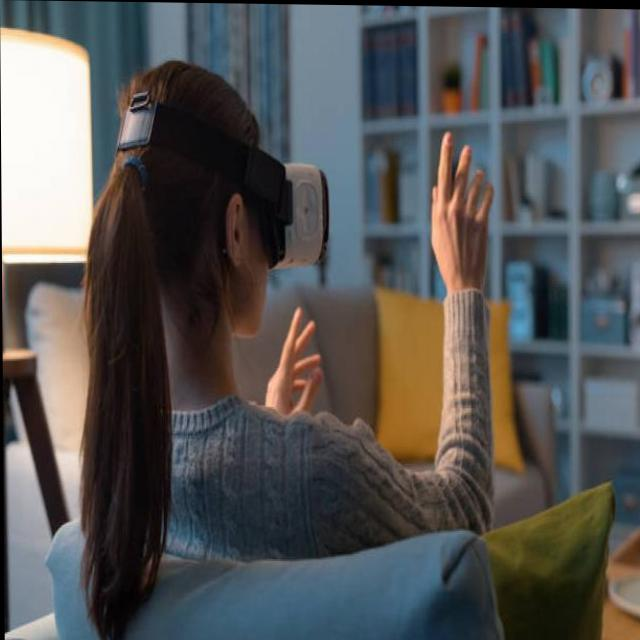no helmet: (92, 70, 282, 468)
